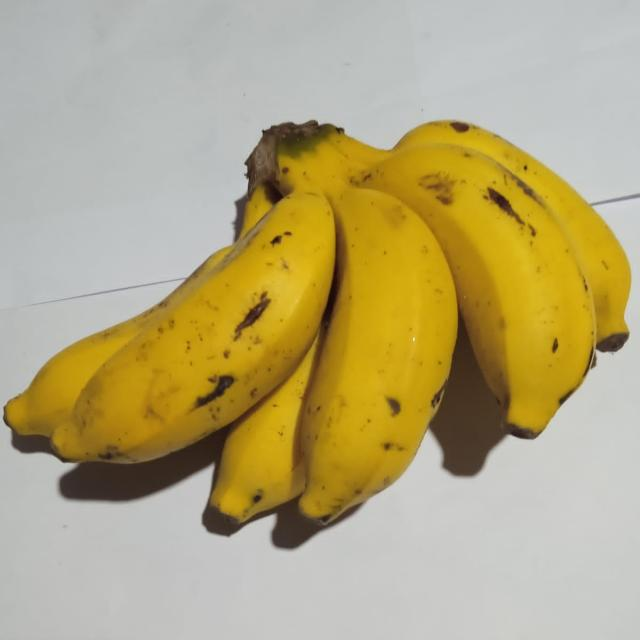banana: (248, 124, 595, 438), (247, 123, 457, 523), (52, 191, 334, 462), (352, 145, 595, 438), (331, 120, 630, 351), (299, 189, 457, 523), (4, 246, 231, 436), (4, 247, 231, 436), (210, 330, 322, 523)
